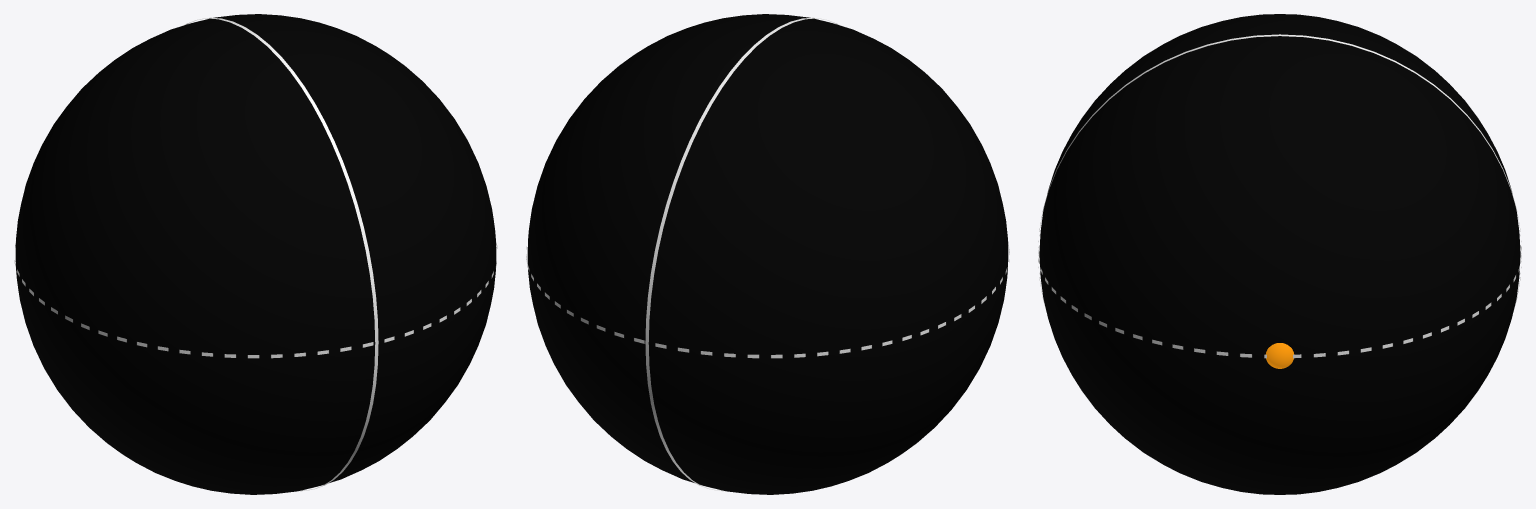
File: qubit_pulsing-transformed.glb
3 views of the same model, side by side, from view 1: azimuth 30°, elevation 25°; view 2: azimuth 150°, elevation 25°; view 3: azimuth 270°, elevation 25° (orthographic).
Parts seen in each view (by area): view 1: outerShell, Axis; view 2: outerShell, Axis; view 3: outerShell, Axis, indicator.
Part boxes in pixels (box(x1,y1,x2,y2)): outerShell: box(15, 14, 496, 494); Axis: box(14, 17, 497, 491); outerShell: box(527, 14, 1008, 494); Axis: box(526, 17, 1009, 491); outerShell: box(1039, 14, 1520, 494); Axis: box(1038, 34, 1521, 358); indicator: box(1265, 343, 1294, 368).
Size of the model in its own units: 2.03 by 2.01 by 2.01.
Materials: 3 (2 with a texture image).
